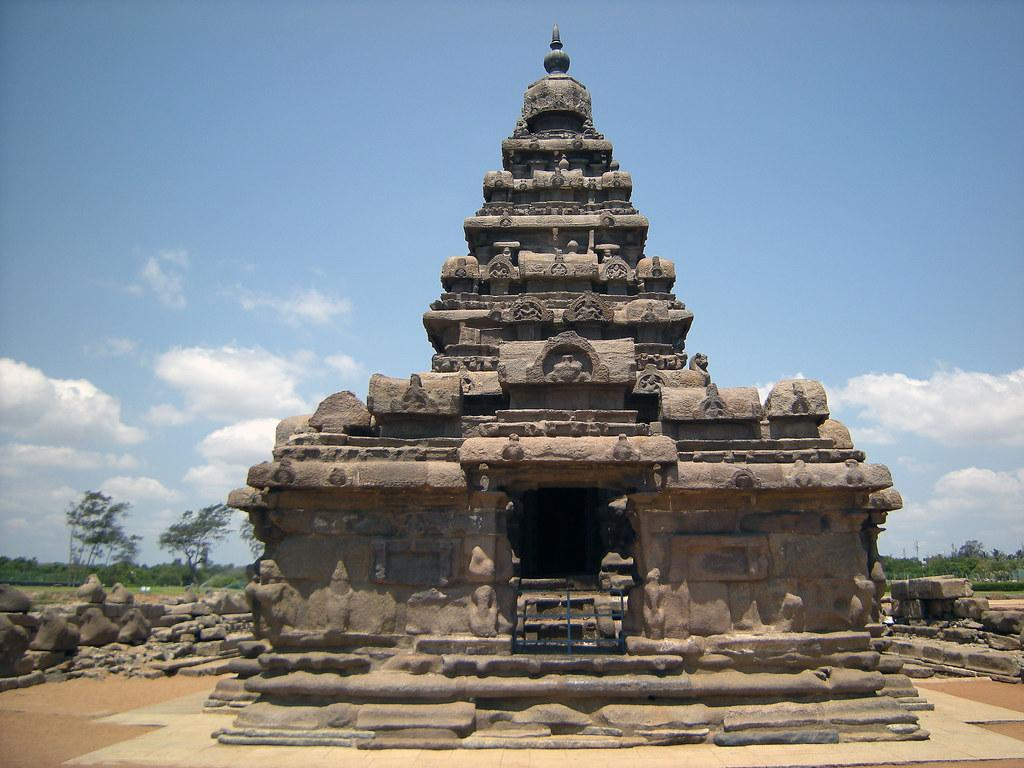temple: (210, 21, 933, 749)
